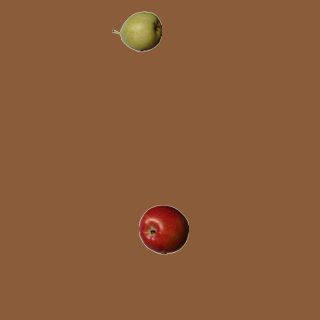Apple Braeburn: (138, 204, 188, 254)
Pear: (111, 6, 161, 56)
